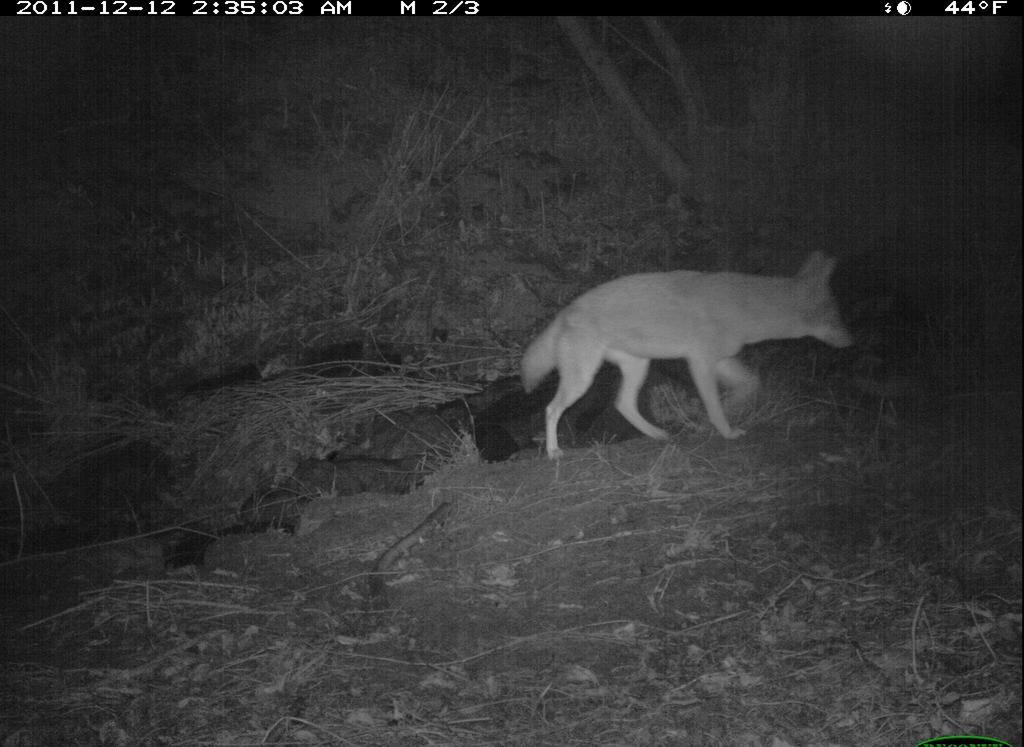coyote: (516, 248, 861, 465)
